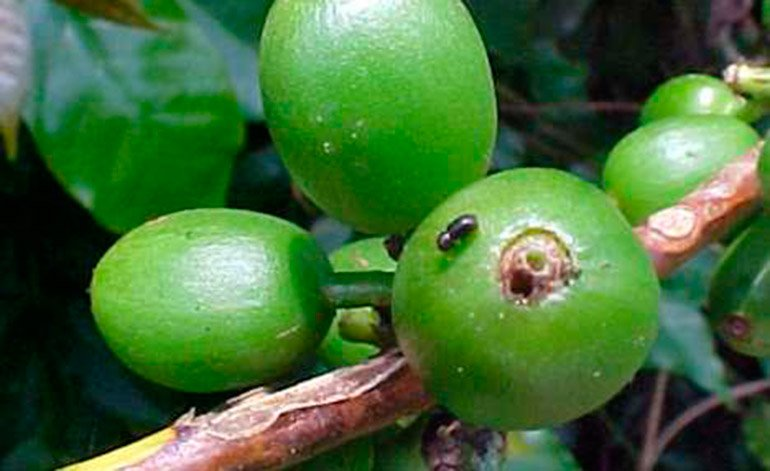broca de cafe: (417, 184, 640, 402)
